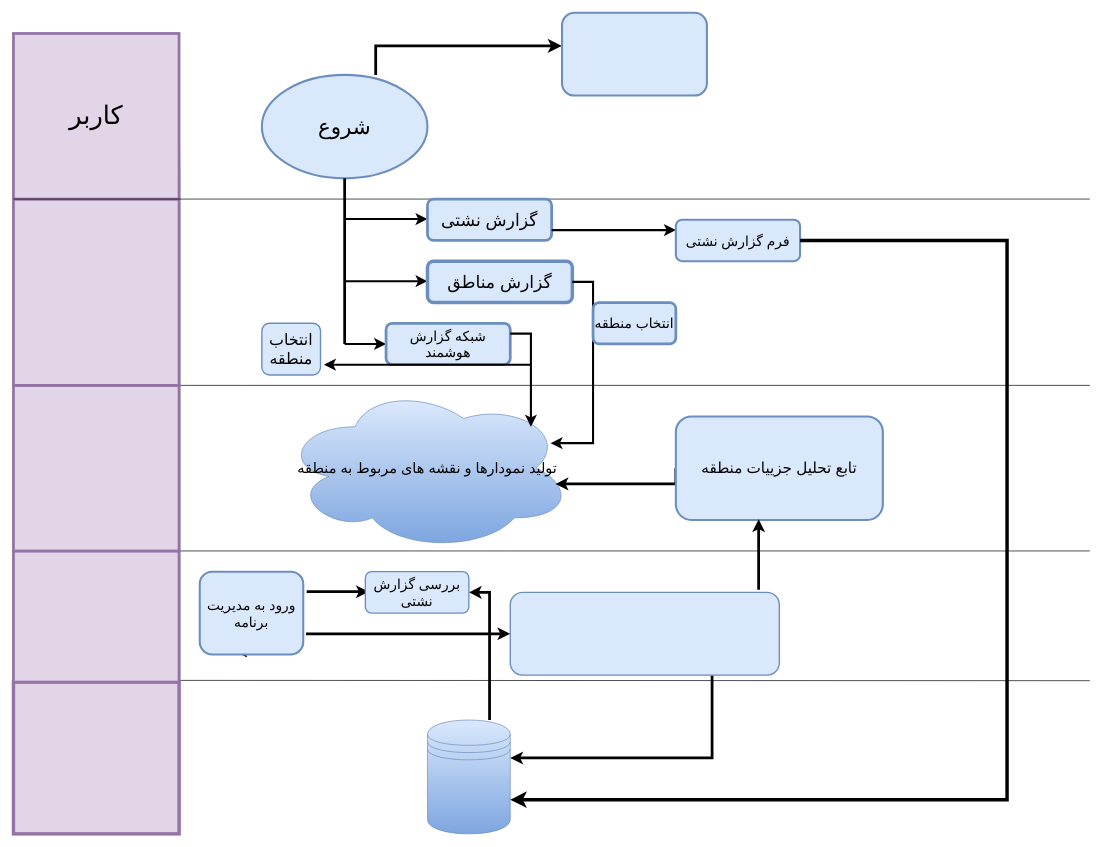
Image size: 1103x847. Some labels were removed from this diagram. The shapes that lost their labels are listed below. From the top down, each one's box as (x1, y1, x2, y2) in pixels, then its label:
(561, 11, 708, 96): راهنمای برنامه
(12, 197, 180, 386): برنامه
(12, 384, 180, 552): هوش مصنوعی و شبیه ساز WNTR
(12, 549, 180, 683): مدیریت برنامه
(509, 591, 780, 676): افزودن فایل (inp) منطقه
(11, 680, 180, 835): پایگاه داده
